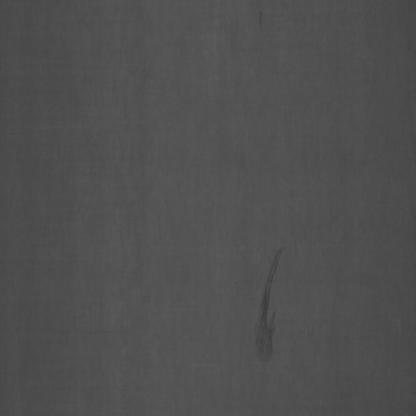water_spot: (247, 244, 291, 374)
